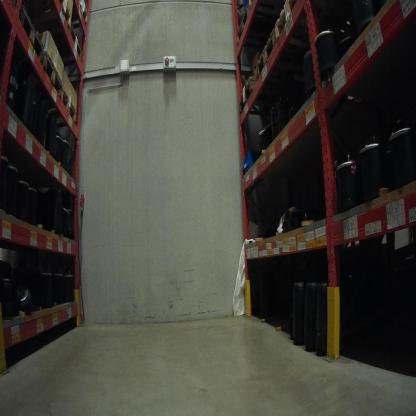pallet: (256, 28, 349, 84), (234, 8, 314, 65), (273, 1, 347, 52), (241, 73, 323, 118), (17, 55, 64, 103), (22, 90, 79, 128), (14, 8, 46, 62), (39, 29, 88, 62), (29, 2, 74, 27), (73, 2, 90, 28), (244, 1, 269, 12)
